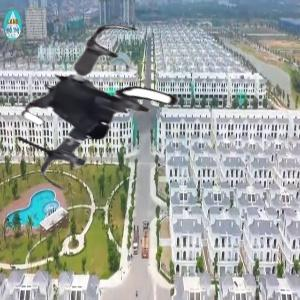drone: (10, 20, 200, 210)
